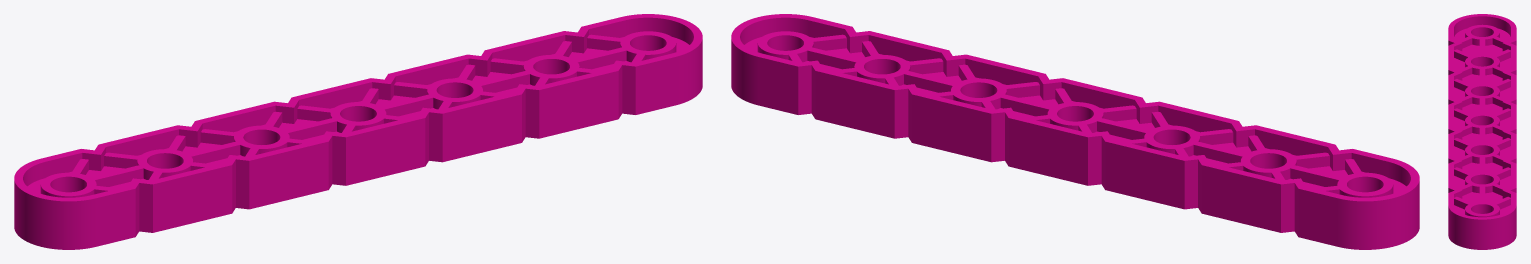
3 renders of one model, left to right at view 1: azimuth 30°, elevation 25°; view 2: azimuth 150°, elevation 25°; view 3: azimuth 270°, elevation 25°, orthographic. The views are drawn at different scales.
Parts seen in each view (by area): view 1: 228-2500-006; view 2: 228-2500-006; view 3: 228-2500-006.
Boxes of the visible parts, bbox=[...] form: 228-2500-006: bbox=[14, 14, 702, 249]; 228-2500-006: bbox=[731, 14, 1419, 249]; 228-2500-006: bbox=[1448, 14, 1516, 249].
Bounding box in the file's own units: 0.0886 × 0.0061 × 0.0124.
